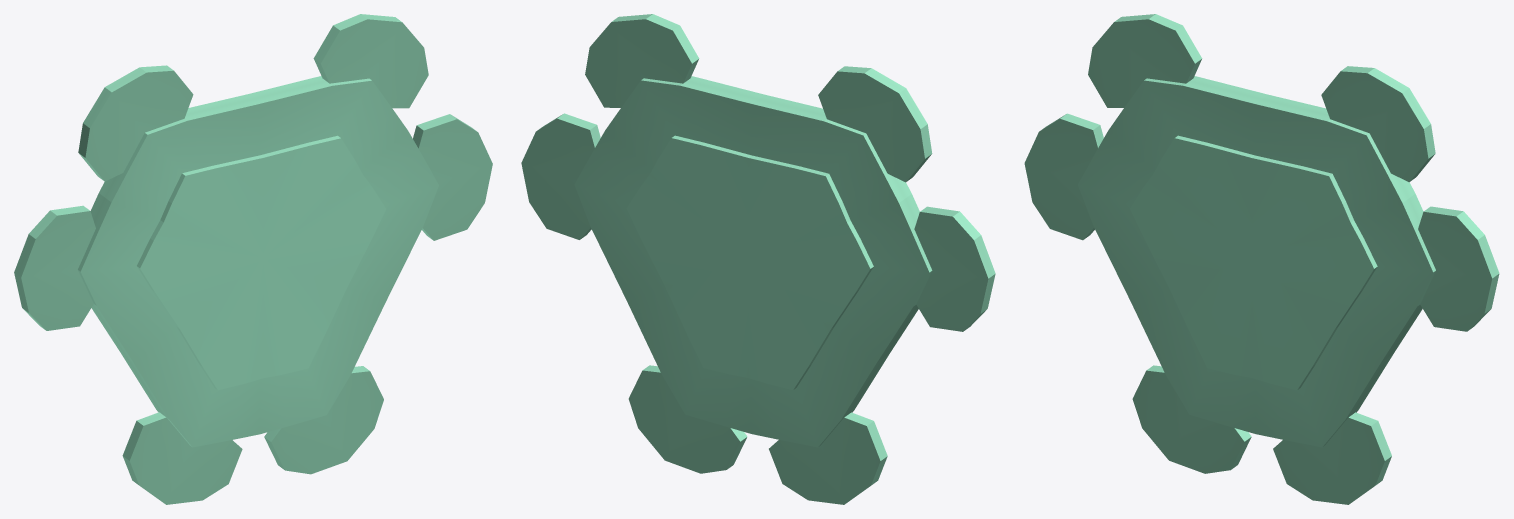
File: Snowflake.001.glb
3 renders of one model, left to right at view 1: azimuth 30°, elevation 25°; view 2: azimuth 150°, elevation 25°; view 3: azimuth 330°, elevation 25°, orthographic.
Parts seen in each view (by area): view 1: Snowflake.001; view 2: Snowflake.001; view 3: Snowflake.001.
Boxes of the visible parts, x1,y1,x2,y2 form: Snowflake.001: (14, 14, 492, 504); Snowflake.001: (521, 14, 995, 504); Snowflake.001: (1024, 14, 1499, 504).
Size of the model in its own units: 555 by 498 by 42.12.
